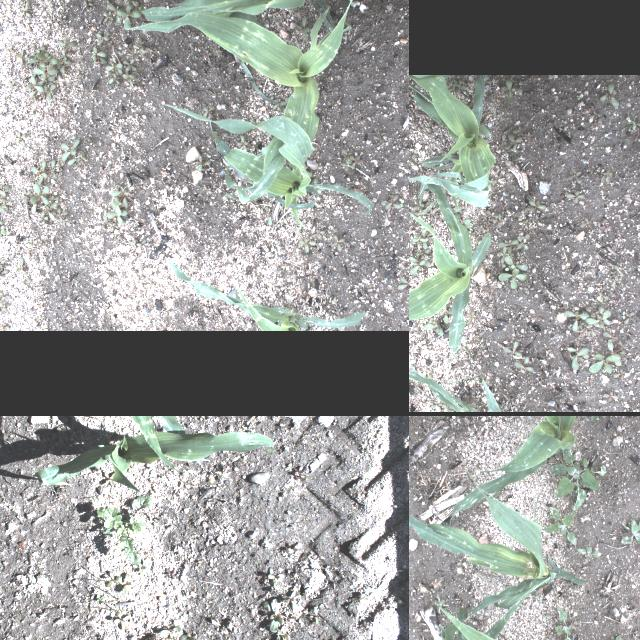crop: (119, 0, 354, 202), (409, 465, 584, 640), (166, 102, 372, 228), (165, 255, 368, 331), (409, 174, 491, 357), (449, 416, 580, 524), (34, 431, 276, 489), (409, 75, 495, 207), (409, 601, 623, 640), (74, 416, 180, 475), (409, 364, 479, 412), (139, 0, 311, 18), (481, 378, 502, 412)
weed: (92, 493, 154, 573), (548, 446, 606, 509), (14, 41, 74, 101), (23, 182, 66, 226), (106, 185, 134, 231), (544, 506, 576, 546), (28, 152, 61, 182), (262, 601, 286, 639), (588, 352, 624, 374), (112, 4, 138, 34), (56, 136, 82, 166), (498, 267, 528, 291), (562, 309, 590, 333), (553, 607, 573, 640), (566, 347, 592, 371), (586, 304, 612, 328), (104, 569, 130, 593), (262, 566, 286, 592), (501, 76, 522, 105), (606, 338, 626, 368), (598, 81, 620, 107), (621, 518, 640, 547), (409, 251, 430, 276), (112, 608, 132, 632), (382, 190, 403, 212), (342, 152, 363, 174), (85, 44, 108, 64), (190, 153, 210, 175), (156, 625, 187, 639), (54, 34, 78, 52), (499, 133, 523, 151), (0, 181, 13, 214), (293, 234, 315, 253), (102, 54, 125, 72), (512, 353, 532, 373), (504, 256, 528, 272), (496, 238, 520, 254), (328, 232, 347, 252), (409, 228, 428, 248), (423, 319, 443, 337), (292, 16, 308, 38), (576, 546, 600, 560), (17, 0, 34, 19), (130, 40, 150, 56), (126, 240, 146, 256), (501, 341, 521, 357), (393, 272, 409, 290), (308, 224, 326, 240), (15, 248, 27, 272), (307, 602, 319, 626), (11, 128, 25, 148), (289, 466, 309, 480), (125, 57, 142, 73), (0, 218, 8, 251), (496, 246, 512, 262), (282, 592, 298, 608), (94, 30, 112, 44), (92, 592, 106, 610), (433, 596, 447, 614), (565, 191, 585, 203), (526, 199, 546, 211), (600, 392, 620, 404), (5, 76, 22, 90), (0, 257, 9, 282), (566, 168, 580, 184), (516, 233, 530, 249), (22, 235, 38, 248), (0, 287, 9, 310), (389, 499, 403, 513), (624, 119, 640, 131), (610, 368, 628, 378), (262, 214, 274, 228), (235, 136, 249, 148), (102, 76, 120, 85), (16, 280, 29, 290), (604, 168, 612, 184), (100, 10, 112, 20), (121, 72, 131, 84), (606, 634, 621, 640), (541, 616, 549, 620), (439, 416, 445, 420)
